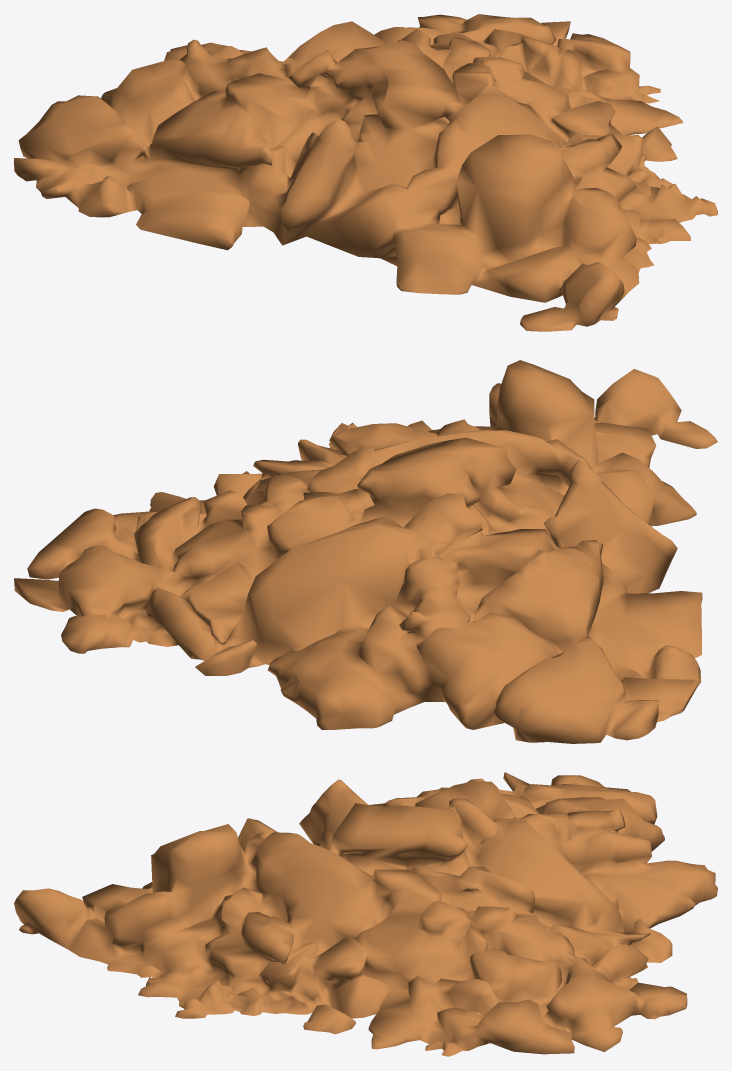
The model's file is MSH_Rock_Many_04.FBX.
3 views of the same model, one above another, from view 1: azimuth 30°, elevation 25°; view 2: azimuth 150°, elevation 25°; view 3: azimuth 270°, elevation 25° (orthographic). The views are drawn at different scales.
Visible parts, largest first — view 1: MESH_LOD0; view 2: MESH_LOD0; view 3: MESH_LOD0.
Part boxes in pixels (x1,y1,x2,y2): MESH_LOD0: (14, 14, 717, 331); MESH_LOD0: (14, 360, 717, 743); MESH_LOD0: (14, 772, 717, 1056).
Size of what is drawn, in the model's own units: 129 by 25.27 by 144.
